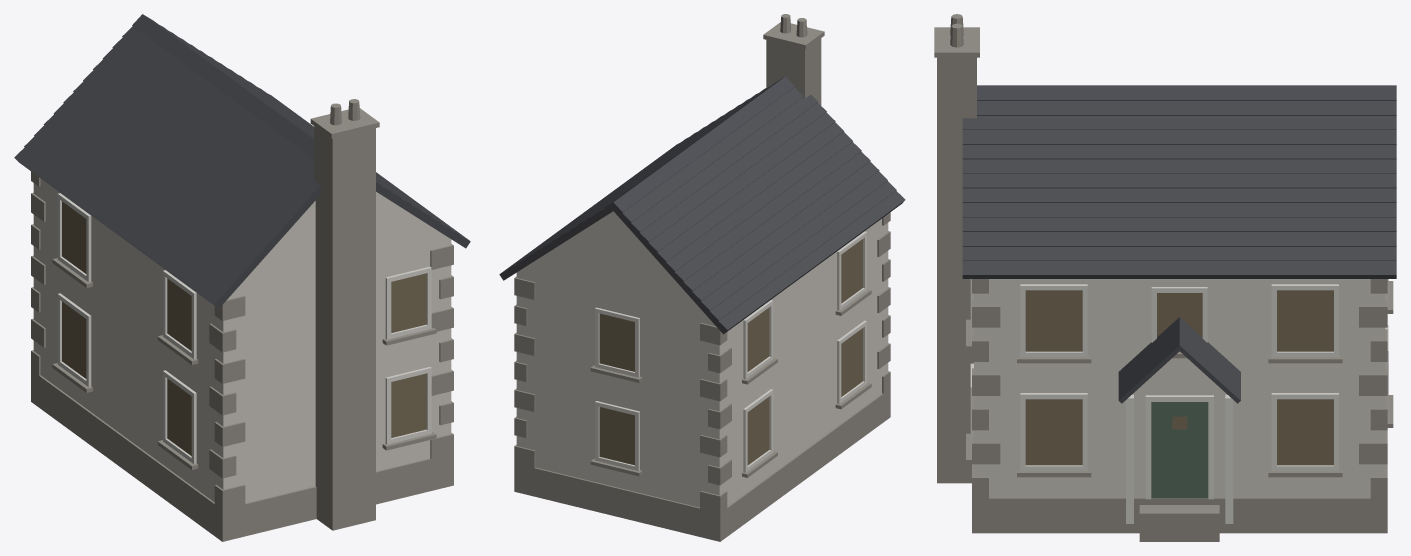
Rendered from house_twostorey.glb.
The picture shows the model from 3 angles, left to right: view 1: azimuth 30°, elevation 25°; view 2: azimuth 150°, elevation 25°; view 3: azimuth 270°, elevation 25°; orthographic projection. The views are drawn at different scales.
Visible parts, largest first — view 1: house_twostorey_lod0; view 2: house_twostorey_lod0; view 3: house_twostorey_lod0.
Boxes of the visible parts, left/top/right/bottom form: house_twostorey_lod0: left=14, top=14, right=470, bottom=541; house_twostorey_lod0: left=499, top=14, right=905, bottom=541; house_twostorey_lod0: left=934, top=14, right=1396, bottom=541.
Size of what is drawn, in the model's own units: 6.52 by 8.71 by 8.1.
